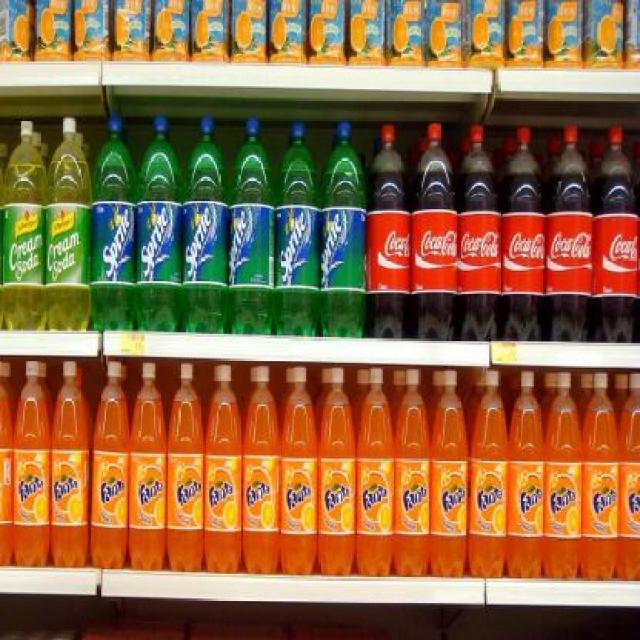Drinks: (544, 124, 593, 342), (592, 123, 640, 343), (411, 122, 458, 340), (135, 115, 182, 332), (183, 116, 229, 333), (228, 118, 274, 334), (274, 123, 320, 337), (500, 124, 545, 341), (321, 123, 365, 340), (367, 123, 411, 340), (92, 116, 136, 330), (457, 124, 500, 341), (355, 366, 394, 577), (242, 366, 281, 574), (129, 362, 168, 570), (12, 359, 51, 567), (469, 370, 508, 578), (506, 371, 545, 578), (318, 366, 356, 577), (280, 367, 318, 576), (91, 360, 129, 569), (204, 365, 242, 573), (50, 360, 88, 568), (545, 372, 583, 580), (394, 368, 431, 578), (583, 372, 620, 580), (168, 362, 204, 572), (432, 370, 468, 578)
